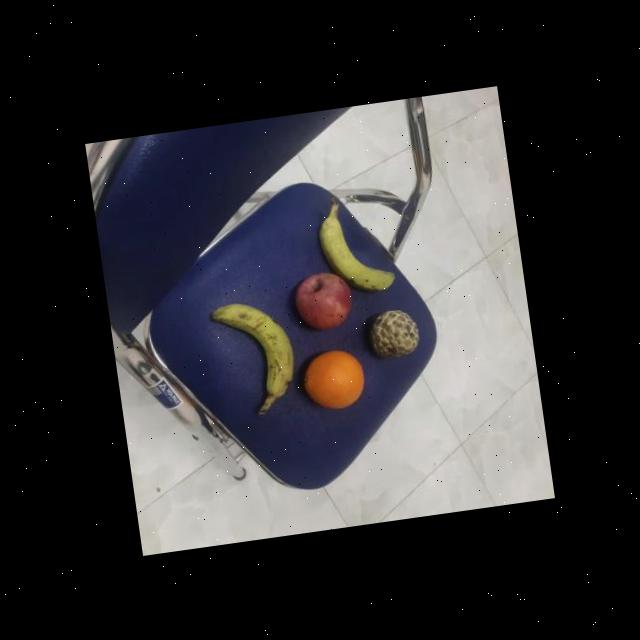Sakya fruit: (366, 304, 422, 362)
apple: (289, 266, 359, 335)
banana: (208, 292, 302, 410), (316, 208, 400, 302)
orange: (298, 344, 370, 415)
